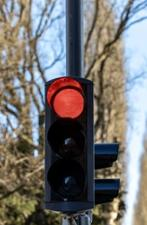red_light: (44, 76, 94, 214)
